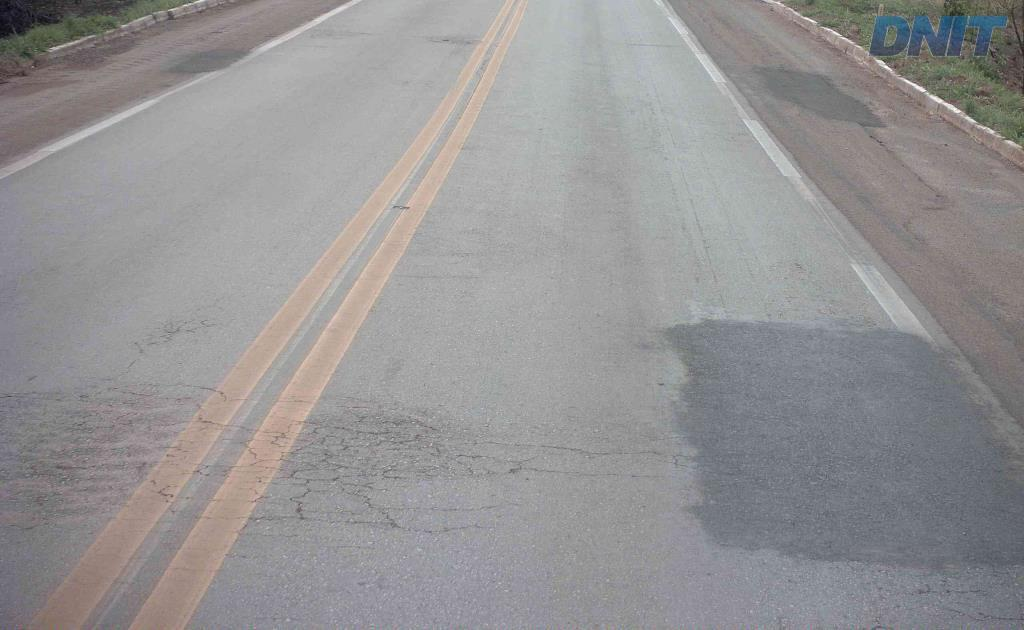crack: (333, 410, 444, 461)
